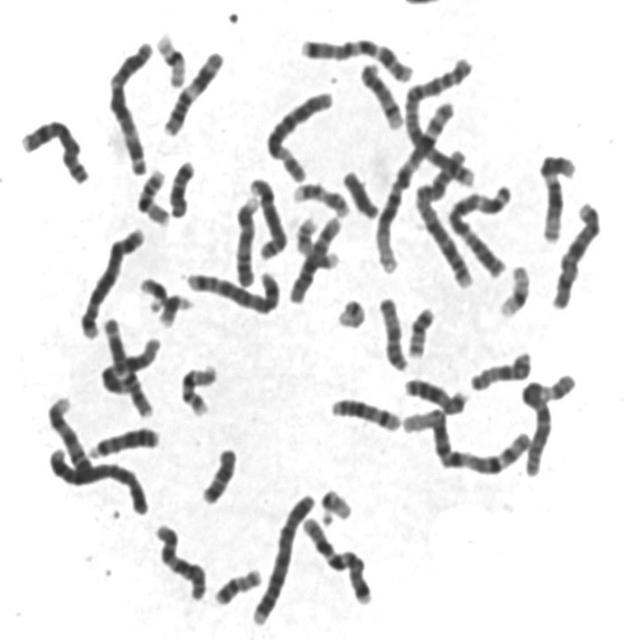A1: (371, 93, 459, 275), (399, 398, 537, 478)
A2: (399, 48, 482, 189), (411, 140, 478, 290)
A3: (102, 32, 159, 177), (441, 176, 517, 282)
B4: (248, 485, 319, 628), (43, 439, 153, 518)
B5: (75, 218, 149, 340), (182, 262, 284, 316)
C10: (285, 209, 346, 306), (151, 516, 211, 602)
C11: (158, 41, 229, 138), (97, 310, 157, 420)
C12: (534, 144, 581, 244), (98, 330, 164, 396)
C6: (261, 82, 338, 184), (516, 365, 580, 478)
C7: (297, 508, 376, 606), (294, 28, 418, 84)
C8: (15, 110, 93, 187), (244, 169, 292, 261)
C9: (42, 389, 96, 480), (230, 188, 263, 290)
D13: (84, 418, 164, 460), (400, 370, 471, 416)
D14: (355, 54, 408, 130), (326, 389, 405, 434)
D15: (465, 342, 537, 393), (374, 288, 412, 374)
E16: (175, 356, 222, 418), (132, 161, 174, 227)
E17: (291, 210, 343, 270), (290, 173, 354, 218)
E18: (196, 438, 242, 507), (164, 152, 200, 219)
F19: (151, 24, 191, 89), (494, 256, 534, 320)
F20: (210, 558, 266, 608), (403, 298, 439, 359)
G21: (154, 286, 196, 328), (134, 269, 172, 314)
G22: (316, 480, 356, 526), (332, 292, 370, 330)
X: (547, 194, 606, 312)
Y: (337, 161, 384, 220)
